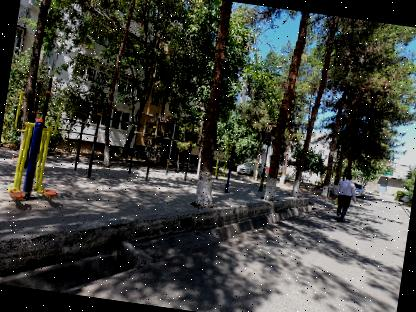person: (328, 169, 358, 226)
tree: (185, 0, 244, 214), (259, 10, 315, 204)
